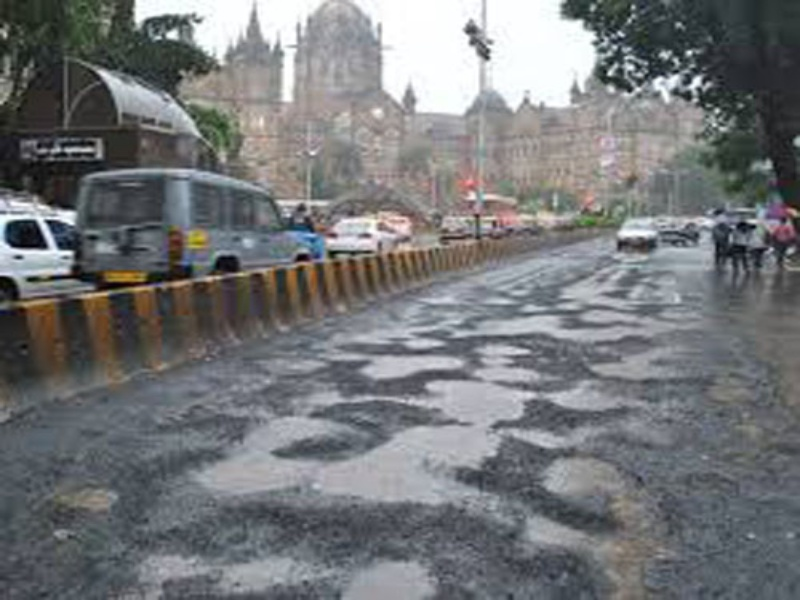pothole: (316, 420, 496, 508), (194, 448, 317, 494), (424, 373, 531, 423), (448, 308, 573, 345), (337, 553, 435, 600), (540, 451, 630, 497), (231, 410, 330, 450), (362, 352, 467, 378), (47, 483, 135, 511), (546, 381, 619, 413), (583, 356, 673, 381), (550, 288, 631, 311)
